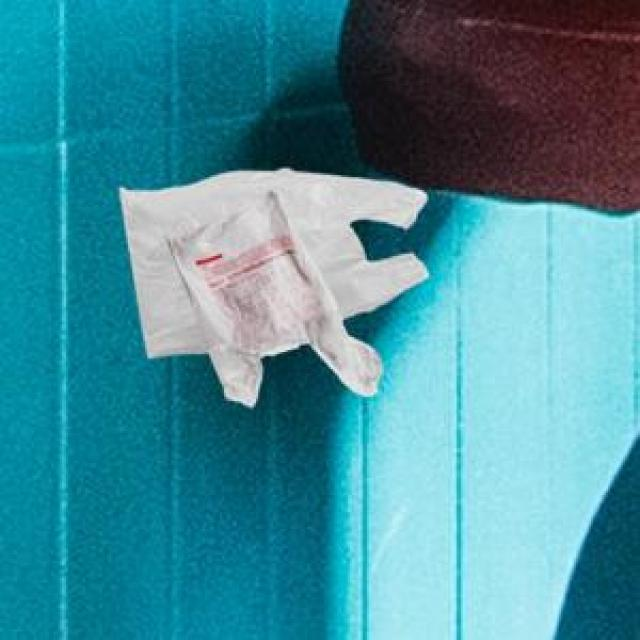waste: (120, 169, 428, 406)
